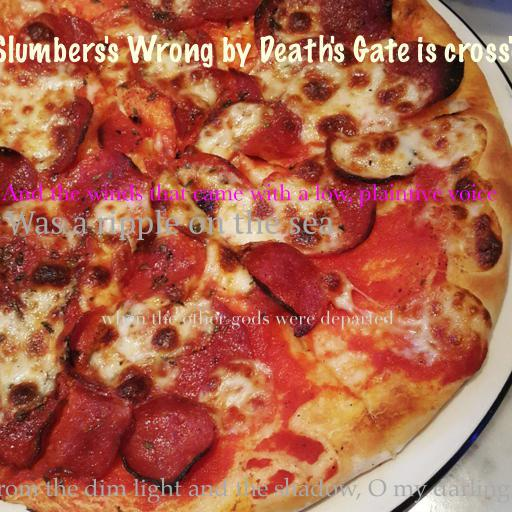Baskerville: (2, 184, 498, 207)
Didot: (100, 310, 394, 330)
Marker Felt: (0, 34, 512, 68)
PT Serif: (6, 209, 334, 241)
Palatino: (0, 477, 512, 503)
